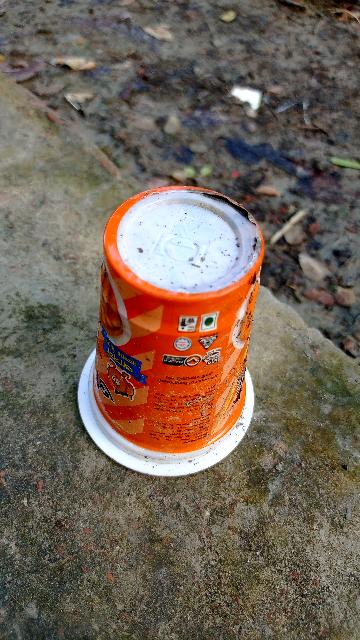hardplastic: (92, 189, 270, 438)
